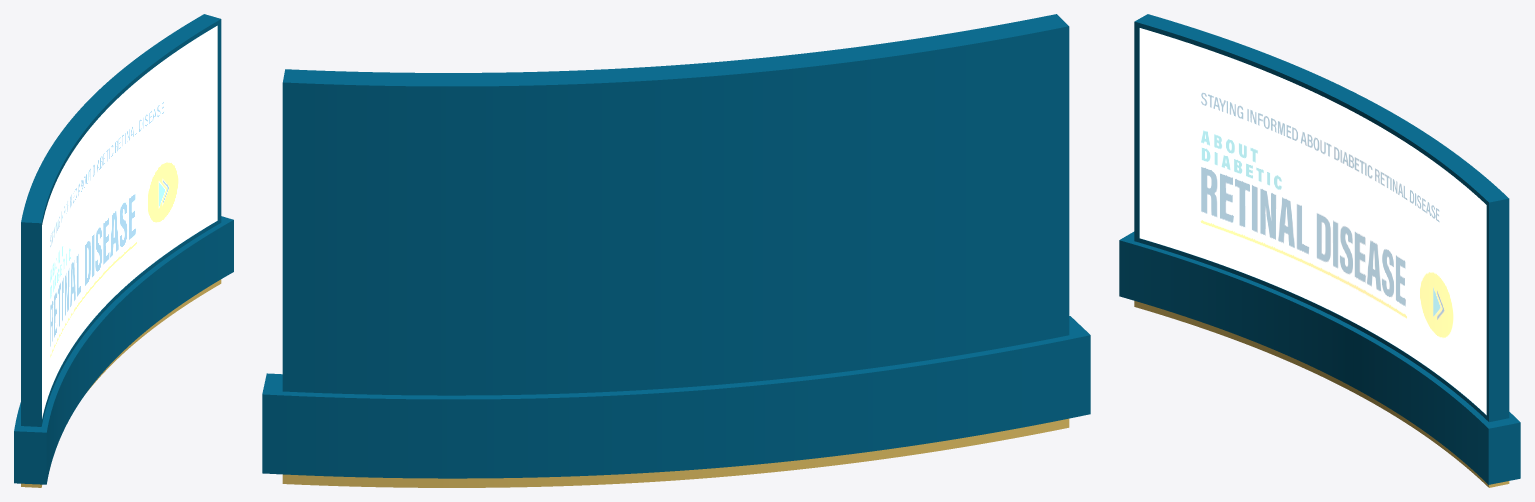
Rendered from banner_left.gltf.
3 renders of one model, left to right at view 1: azimuth 30°, elevation 25°; view 2: azimuth 150°, elevation 25°; view 3: azimuth 270°, elevation 25°, orthographic. The views are drawn at different scales.
Visible parts, largest first — view 1: Model (×4); view 2: Model (×3); view 3: Model (×4).
Part boxes in pixels (bbox=[...]): Model (×4): bbox=[14, 14, 233, 487]; Model (×3): bbox=[262, 14, 1090, 487]; Model (×4): bbox=[1119, 14, 1520, 487].
Bounding box in the file's own units: 2299 × 1524 × 1944.
Materials: 4 (1 with a texture image).
